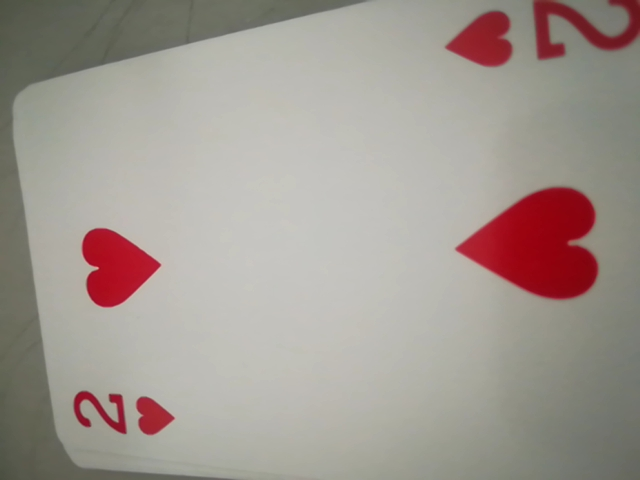hx 2: (439, 0, 640, 83), (69, 380, 190, 453)
